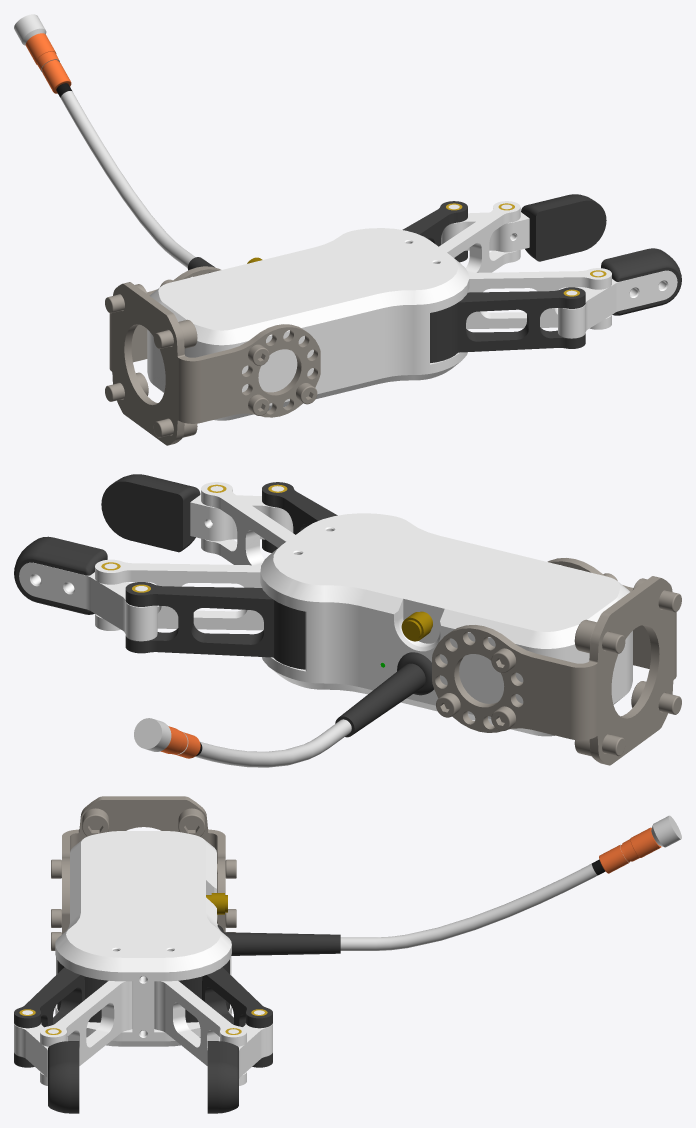
3 views of the same model, one above another, from view 1: azimuth 30°, elevation 25°; view 2: azimuth 150°, elevation 25°; view 3: azimuth 270°, elevation 25° (orthographic). The views are drawn at different scales.
Parts seen in each view (by area): view 1: Boss-Extrude43, Fillet2, Boss-Extrude5 (×2), Boss-Extrude4 (×2), DeleteFace4, DeleteFace3 (×2), DeleteFace2 (×2), Boss-Extrude8, Cut-Extrude1; view 2: Boss-Extrude43, Fillet2, Boss-Extrude5 (×2), Boss-Extrude4 (×2), DeleteFace3 (×2), DeleteFace2 (×2), DeleteFace4, Boss-Extrude8, Cut-Extrude1 (×7), DeleteFace1, Revolve4; view 3: Boss-Extrude43, Boss-Extrude4 (×2), Boss-Extrude5 (×2), Boss-Extrude8, Fillet2, DeleteFace3 (×2), DeleteFace2 (×2), DeleteFace1, DeleteFace4, Cut-Extrude1 (×2).
Boxes of the visible parts, x1,y1,x2,y2 form: Boss-Extrude43: (147,228,469,374); Fillet2: (109,266,320,445); Boss-Extrude5 (×2): (402,201,585,362); Boss-Extrude4 (×2): (439,201,611,329); DeleteFace4: (147,339,467,420); DeleteFace3 (×2): (521,194,681,315); DeleteFace2 (×2): (441,204,677,338); Boss-Extrude8: (14,14,195,267); Cut-Extrude1: (153,319,197,348); Boss-Extrude43: (260,513,632,682); Fillet2: (432,558,676,765); Boss-Extrude5 (×2): (125,482,337,669); Boss-Extrude4 (×2): (95,482,294,630); DeleteFace3 (×2): (14,474,200,614); DeleteFace2 (×2): (19,486,293,641); DeleteFace4: (262,643,632,736); Boss-Extrude8: (134,718,351,767); Cut-Extrude1 (×7): (436,578,681,756); DeleteFace1: (335,652,433,737); Revolve4: (401,611,432,641); Boss-Extrude43: (55,831,231,1006); Boss-Extrude4 (×2): (40,981,246,1085); Boss-Extrude5 (×2): (14,959,272,1067); Boss-Extrude8: (340,815,681,950); Fillet2: (62,796,225,934); DeleteFace3 (×2): (48,1041,238,1113); DeleteFace2 (×2): (14,1010,272,1078); DeleteFace1: (217,925,340,955); DeleteFace4: (55,1004,231,1046); Cut-Extrude1 (×2): (82,808,205,836).
Size of the model in its own units: 8.32 by 2.88 by 9.66.
